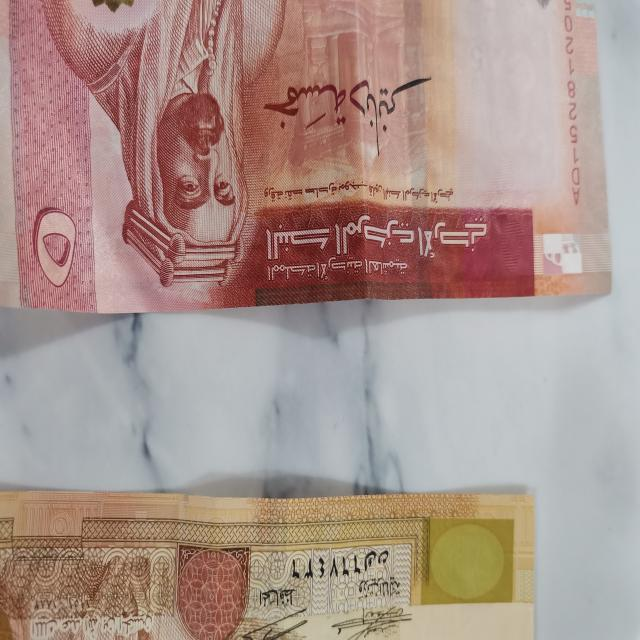5-dinar: (0, 0, 626, 313), (0, 483, 543, 639)
